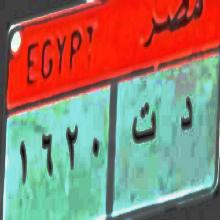0: (89, 131, 103, 177)
1: (15, 132, 31, 187)
2: (61, 121, 82, 174)
6: (38, 126, 56, 190)
daal: (173, 87, 201, 155)
taa: (128, 96, 159, 163)
